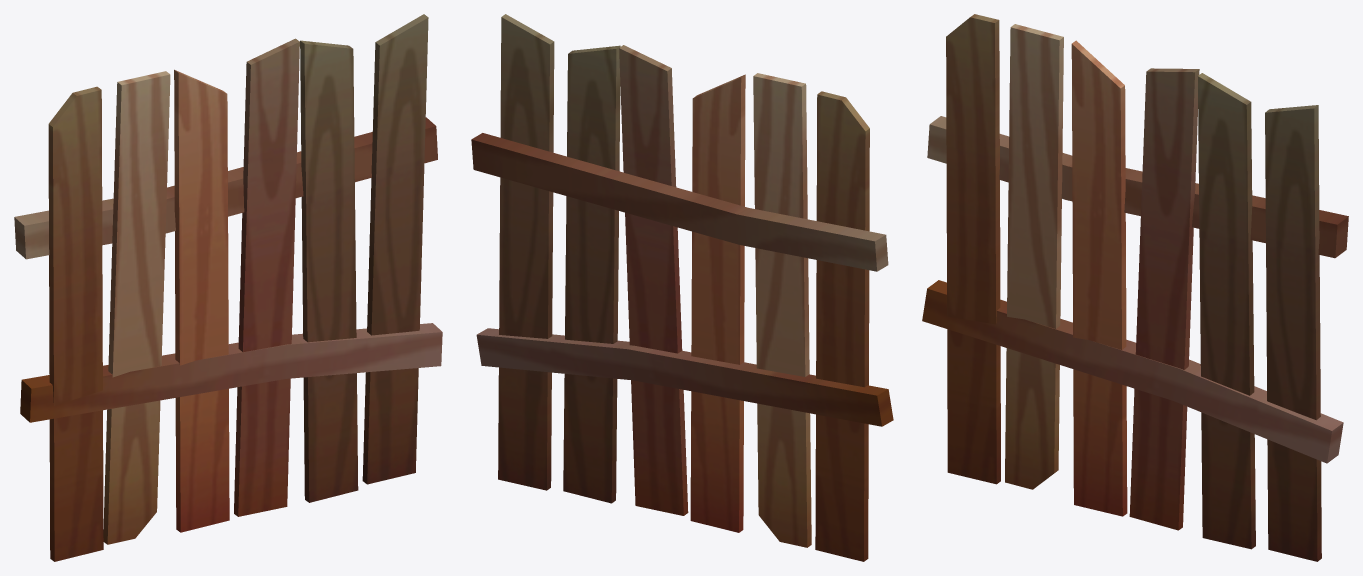
File: SM_Fence_01.fbx
3 views of the same model, side by side, from view 1: azimuth 30°, elevation 25°; view 2: azimuth 150°, elevation 25°; view 3: azimuth 330°, elevation 25° (orthographic).
Visible parts, largest first — view 1: SM_Fence_01; view 2: SM_Fence_01; view 3: SM_Fence_01.
Part boxes in pixels (bbox=[...]): SM_Fence_01: bbox=[14, 14, 442, 561]; SM_Fence_01: bbox=[471, 14, 893, 561]; SM_Fence_01: bbox=[922, 14, 1348, 561].
Bounding box in the file's own units: 116 × 125 × 10.2.
